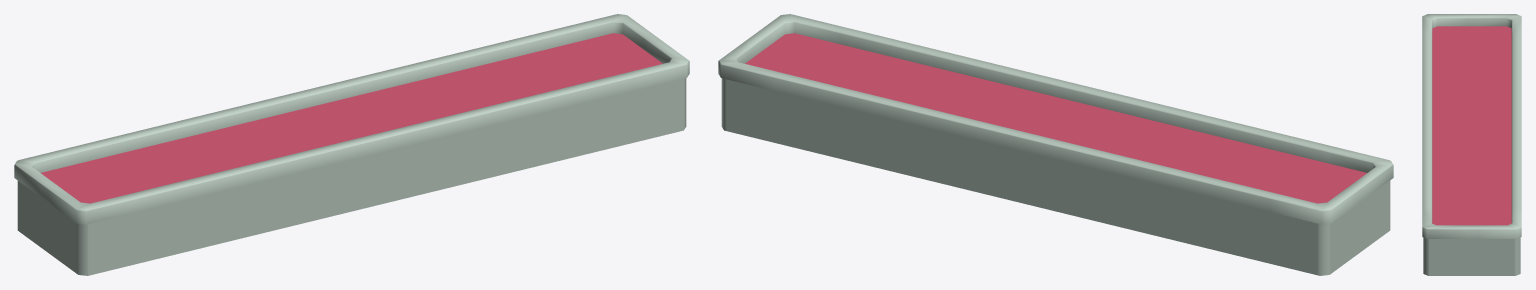
File: Struct_FlowerBox_B.fbx
The picture shows the model from 3 angles, left to right: view 1: azimuth 30°, elevation 25°; view 2: azimuth 150°, elevation 25°; view 3: azimuth 270°, elevation 25°; orthographic projection. The views are drawn at different scales.
Parts seen in each view (by area): view 1: Struct_FlowerBox_B; view 2: Struct_FlowerBox_B; view 3: Struct_FlowerBox_B.
Boxes of the visible parts, x1,y1,x2,y2 form: Struct_FlowerBox_B: (14, 14, 689, 275); Struct_FlowerBox_B: (718, 14, 1393, 275); Struct_FlowerBox_B: (1422, 14, 1521, 275).
Size of the model in its own units: 9.3 by 0.9611 by 1.82.
